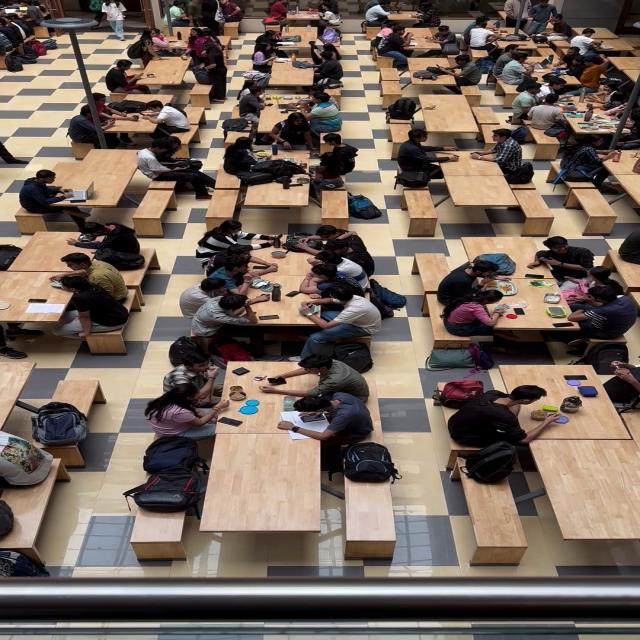Occupied: (497, 364, 637, 440), (196, 363, 316, 435), (5, 247, 159, 300), (444, 278, 590, 332), (446, 386, 555, 449), (261, 351, 372, 409), (22, 168, 150, 217), (233, 240, 339, 296), (228, 277, 343, 328), (232, 129, 320, 195), (278, 391, 375, 448), (133, 140, 218, 201), (142, 382, 227, 440), (99, 110, 206, 150), (374, 13, 460, 60), (558, 133, 626, 190), (2, 238, 114, 272), (52, 274, 132, 320), (71, 98, 140, 151), (162, 353, 228, 407), (522, 35, 589, 88), (240, 173, 315, 219), (436, 256, 504, 306), (458, 236, 554, 271), (195, 218, 279, 258), (0, 270, 78, 312), (201, 256, 279, 296), (528, 237, 598, 280), (0, 360, 39, 434), (396, 128, 458, 174), (396, 68, 467, 108), (554, 103, 624, 142), (557, 266, 622, 308), (69, 222, 144, 258), (298, 253, 369, 290), (472, 127, 525, 174), (301, 93, 345, 147), (219, 135, 274, 177), (509, 80, 562, 123), (266, 112, 320, 154), (48, 379, 106, 418), (98, 90, 159, 127), (193, 44, 229, 104), (138, 100, 192, 138), (39, 402, 92, 440), (437, 154, 513, 180), (496, 33, 560, 63), (139, 54, 195, 88), (103, 59, 151, 97), (434, 53, 485, 88), (267, 56, 316, 92), (529, 72, 595, 98), (362, 15, 427, 41), (133, 28, 175, 66), (587, 79, 631, 115), (37, 442, 87, 472), (304, 158, 348, 192), (306, 50, 345, 88), (600, 374, 640, 410), (92, 248, 148, 272), (572, 38, 638, 58), (368, 279, 408, 312), (236, 84, 271, 120), (493, 45, 532, 77), (5, 305, 70, 324), (185, 27, 220, 62), (465, 19, 502, 51), (250, 40, 282, 76), (472, 252, 517, 277), (319, 149, 358, 177), (0, 2, 39, 29), (280, 24, 325, 47), (578, 58, 610, 90), (540, 14, 576, 42), (214, 0, 245, 32), (255, 159, 303, 179), (284, 10, 334, 29), (238, 71, 274, 96), (362, 0, 395, 27), (282, 231, 322, 253), (424, 25, 459, 50), (254, 29, 287, 55), (501, 162, 536, 186), (392, 169, 432, 190), (165, 0, 192, 29), (412, 3, 443, 28), (462, 56, 497, 78), (228, 171, 276, 187), (0, 244, 26, 272), (376, 32, 405, 54), (4, 18, 34, 39), (108, 99, 149, 114), (264, 0, 289, 23), (330, 143, 360, 162), (220, 117, 253, 133), (125, 39, 151, 59), (169, 158, 204, 172), (314, 0, 341, 18), (190, 65, 214, 85), (205, 353, 229, 373), (507, 124, 530, 144), (259, 16, 283, 35), (26, 2, 50, 20), (425, 161, 446, 181), (319, 27, 342, 45), (24, 40, 48, 57), (251, 131, 278, 146), (314, 77, 345, 90), (453, 74, 481, 88), (424, 65, 454, 78), (8, 53, 40, 65), (411, 69, 440, 81), (439, 42, 462, 55), (201, 255, 219, 271), (38, 38, 60, 51), (550, 127, 572, 140), (290, 60, 316, 70), (500, 33, 528, 42), (276, 35, 302, 43), (325, 15, 342, 26), (308, 40, 324, 51), (533, 36, 548, 43)
Unoccupied: (195, 432, 323, 536), (532, 439, 640, 543), (454, 484, 536, 565), (340, 467, 398, 561), (439, 173, 526, 234), (127, 499, 192, 562), (299, 282, 384, 326), (187, 295, 274, 337), (566, 286, 640, 332), (336, 441, 402, 485), (566, 185, 622, 233), (12, 208, 105, 235), (508, 185, 558, 232), (130, 187, 179, 231), (524, 98, 574, 141), (421, 93, 472, 134), (402, 187, 441, 235), (604, 246, 640, 292), (203, 188, 245, 225), (329, 342, 374, 374), (412, 252, 453, 286), (205, 335, 253, 364), (318, 189, 351, 225), (210, 164, 246, 195), (167, 335, 203, 365), (346, 194, 383, 219), (571, 28, 621, 40), (186, 86, 213, 108)
